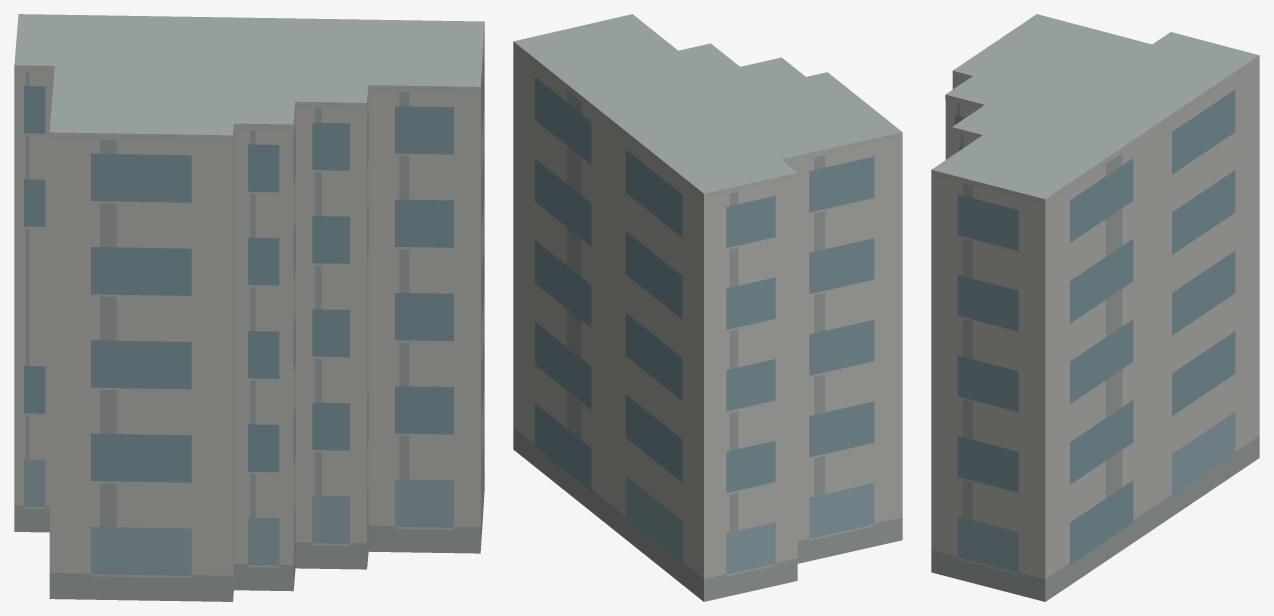
Rendered from survey-upis-32583069.glb.
3 views of the same model, side by side, from view 1: azimuth 30°, elevation 25°; view 2: azimuth 150°, elevation 25°; view 3: azimuth 270°, elevation 25° (orthographic). The views are drawn at different scales.
Visible parts, largest first — view 1: survey-upis-32583069.tmp; view 2: survey-upis-32583069.tmp; view 3: survey-upis-32583069.tmp.
Part boxes in pixels (left/top/right/bottom): survey-upis-32583069.tmp: left=14, top=14, right=484, bottom=601; survey-upis-32583069.tmp: left=513, top=14, right=902, bottom=601; survey-upis-32583069.tmp: left=931, top=14, right=1259, bottom=601.
Bounding box in the file's own units: 16.73 × 16.95 × 12.53.
